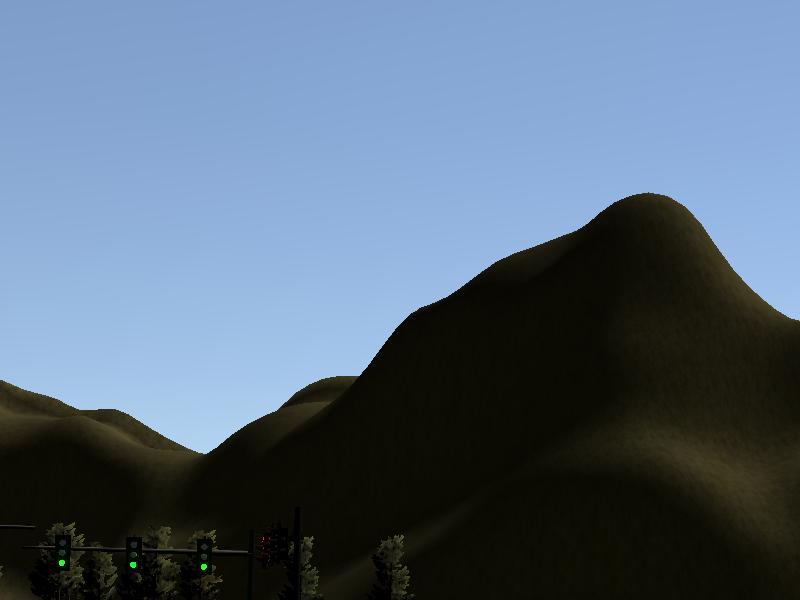green: (54, 534, 70, 573), (198, 538, 213, 576), (126, 537, 141, 573)
